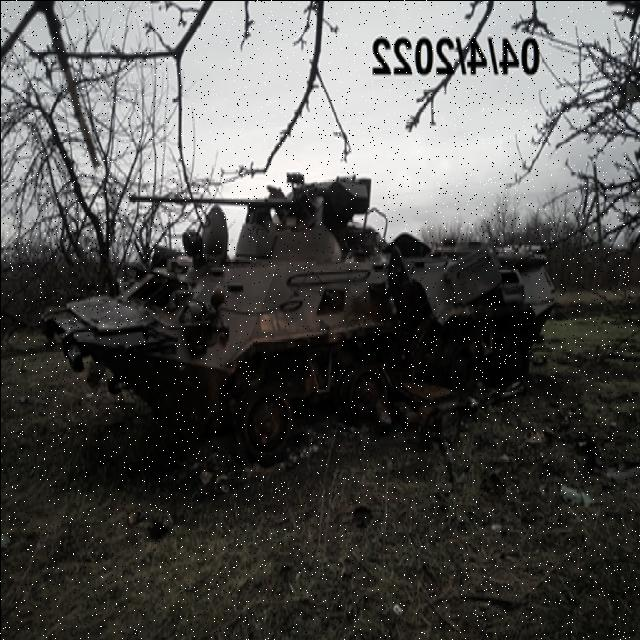APC-IFV: (44, 147, 558, 476)
